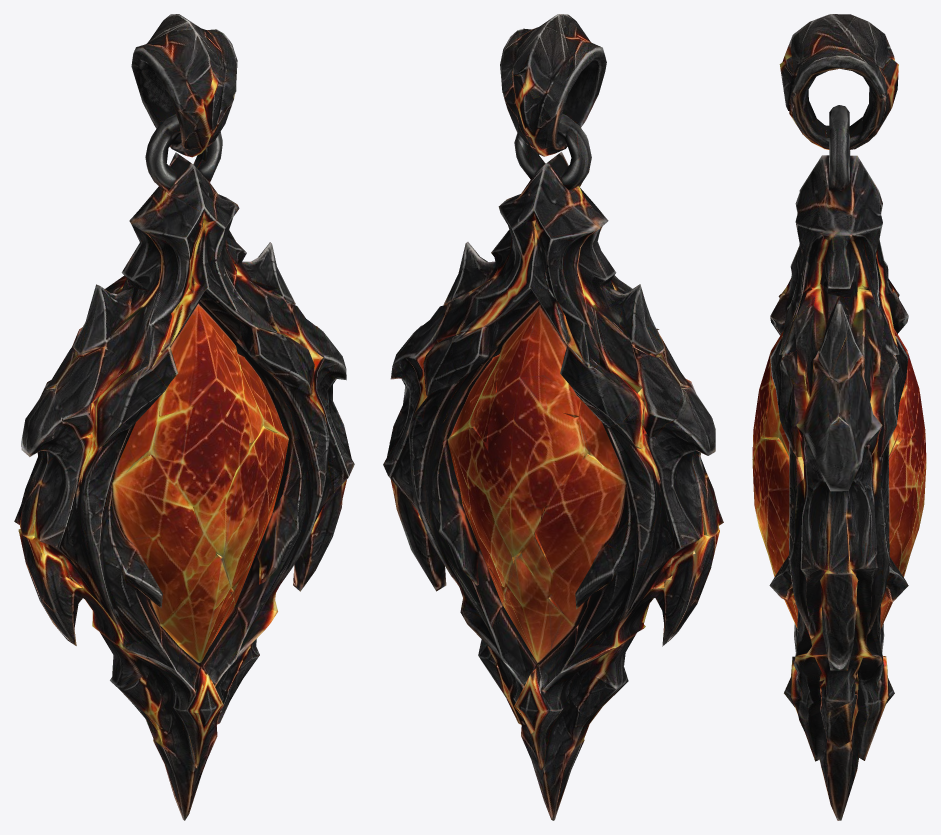
Rendered from set-fire-amulet.glb.
3 views of the same model, side by side, from view 1: azimuth 30°, elevation 25°; view 2: azimuth 150°, elevation 25°; view 3: azimuth 270°, elevation 25° (orthographic).
Visible parts, largest first — view 1: Motion_Control; view 2: Motion_Control; view 3: Motion_Control.
Part boxes in pixels (box(x1,y1,x2,y2)): Motion_Control: box(14, 14, 354, 820); Motion_Control: box(383, 14, 723, 820); Motion_Control: box(752, 14, 926, 820).
Bounding box in the file's own units: 0.8448 × 2 × 0.3907.
1 material, 1 textured.
